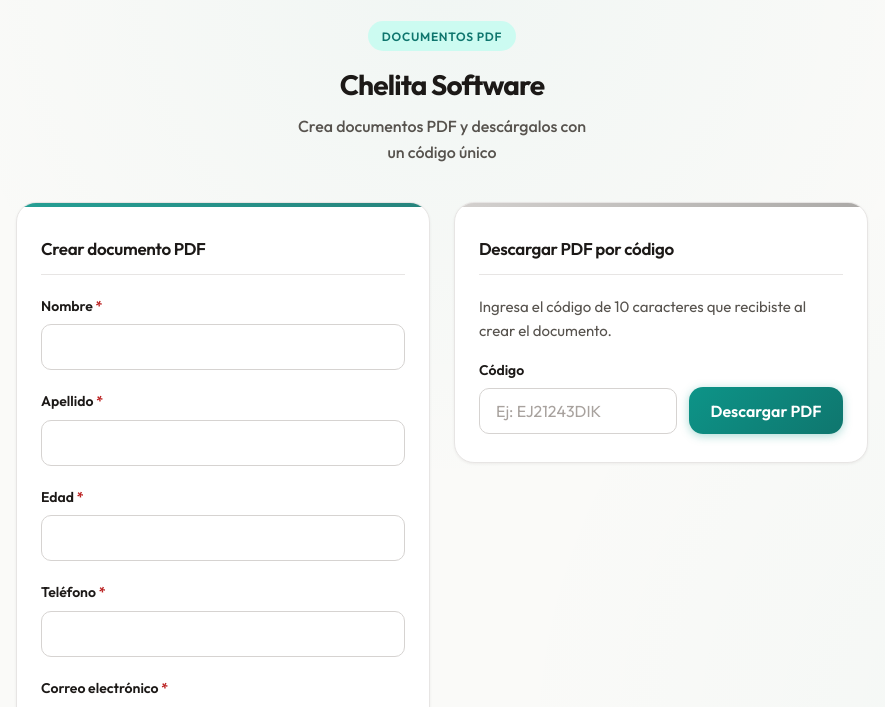
Test case: App › al crear documento exitosamente muestra el código y mensaje de éxito
Type "María" into the field labelled "Nombre *" at (223, 347), box x1=41 y1=324 x2=405 y2=370
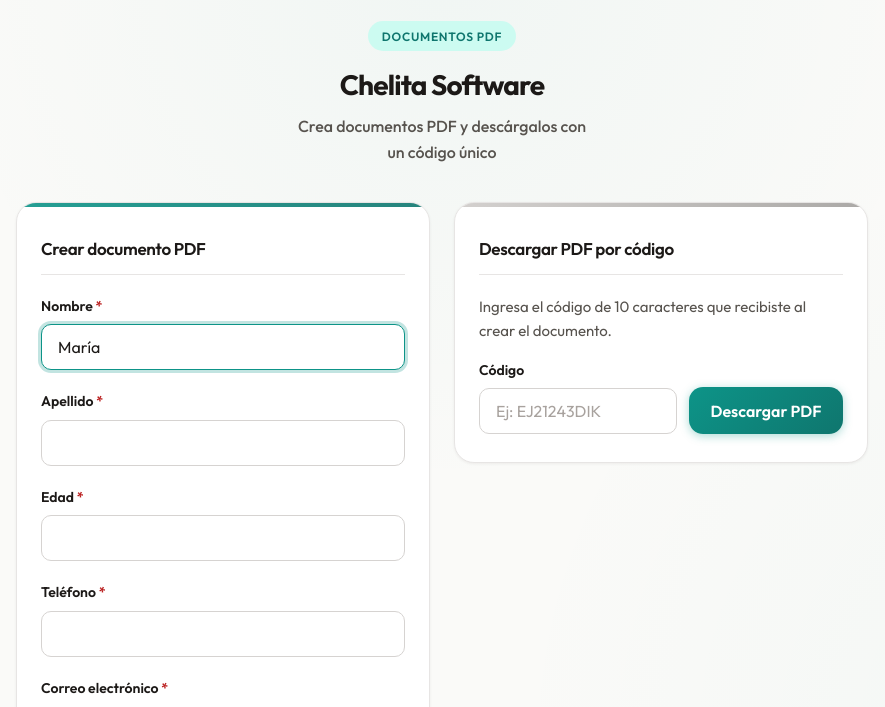
Type "López" into the field labelled "Apellido *" at (223, 443), box x1=41 y1=420 x2=405 y2=466
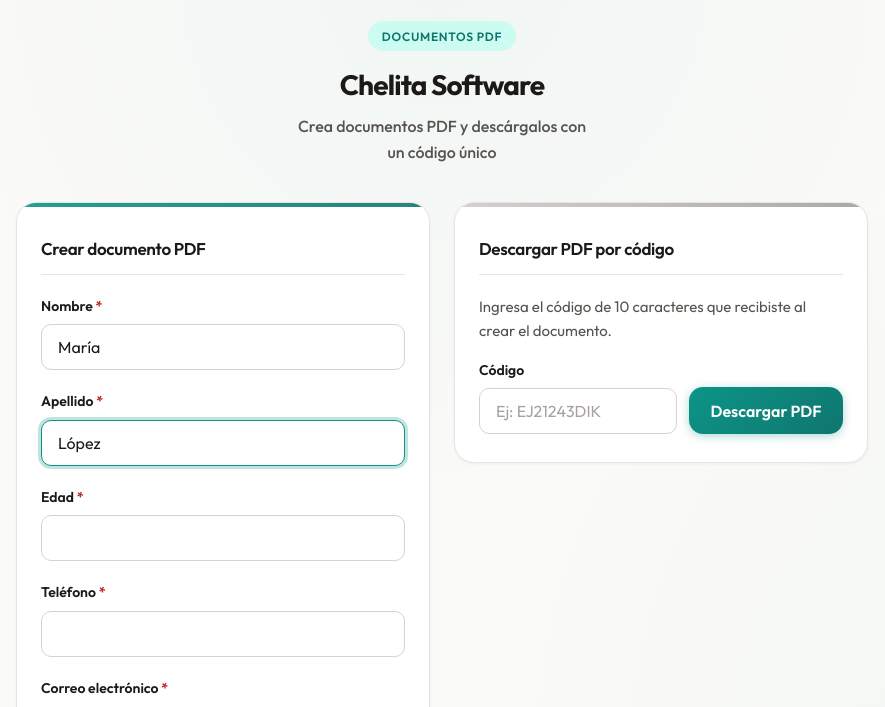
Type "30" into the field labelled "Edad *" at (223, 538), box x1=41 y1=516 x2=405 y2=562
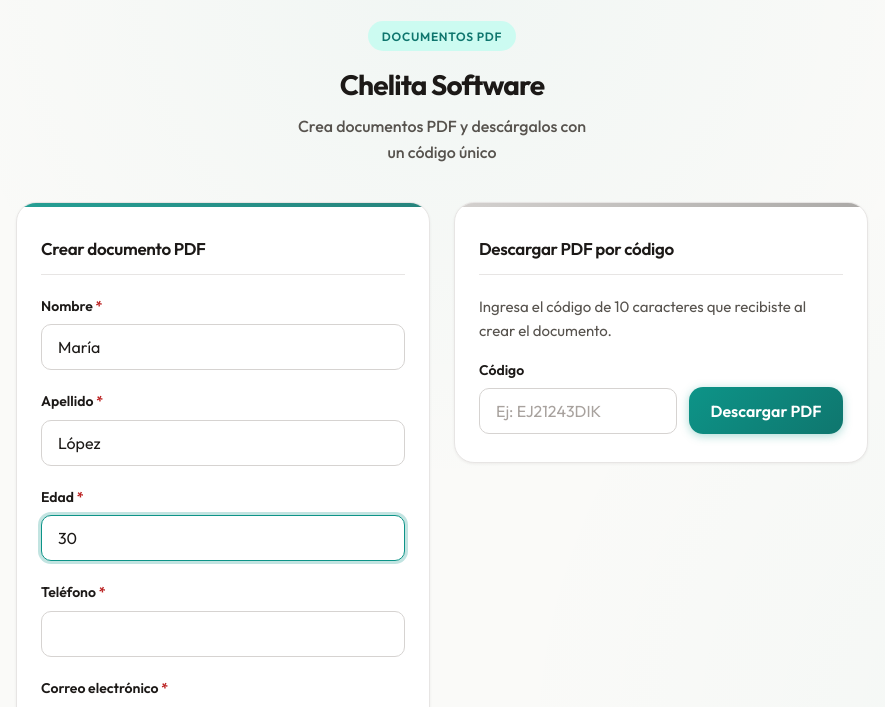
Type "5512345678" into the field labelled "Teléfono *" at (223, 634), box x1=41 y1=611 x2=405 y2=657
(page scrolled)
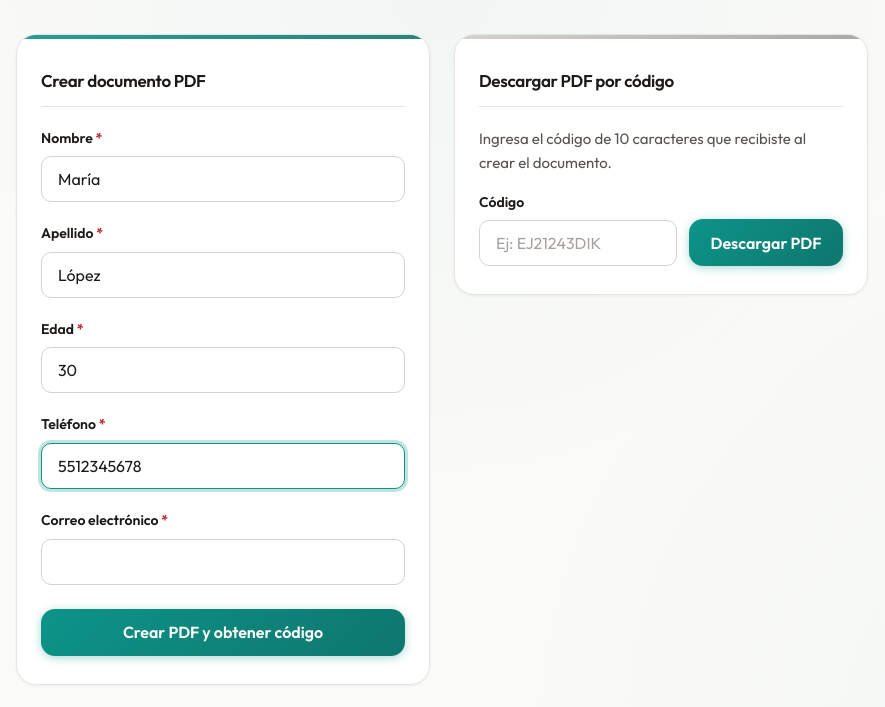
Type "maria@test.com" into the field labelled "Correo electrónico *" at (223, 562), box x1=41 y1=539 x2=405 y2=585
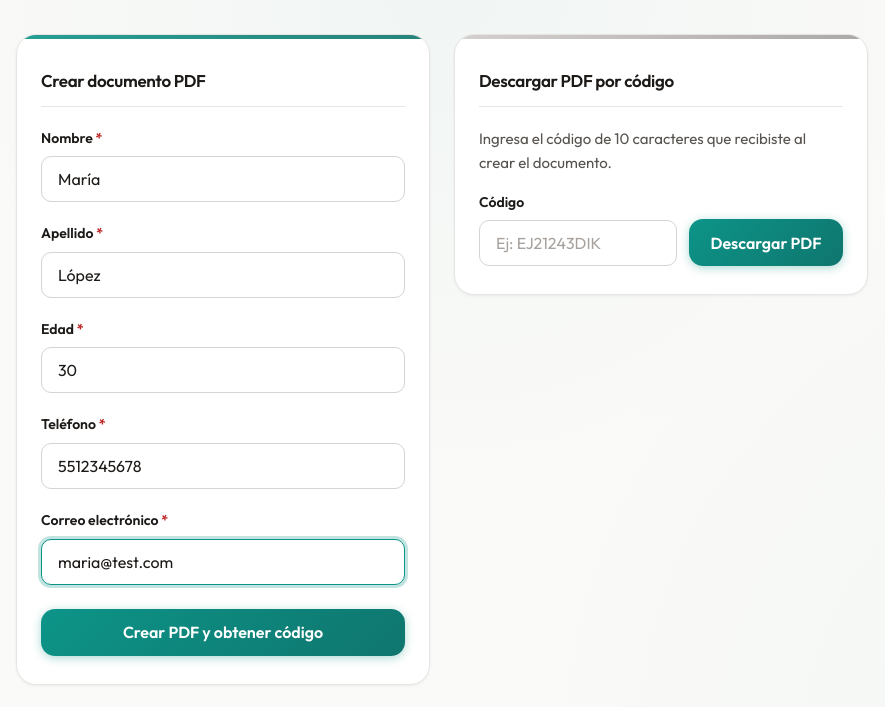
Click the button "Crear PDF y obtener código" at (223, 632), box x1=41 y1=609 x2=405 y2=656
(page scrolled)
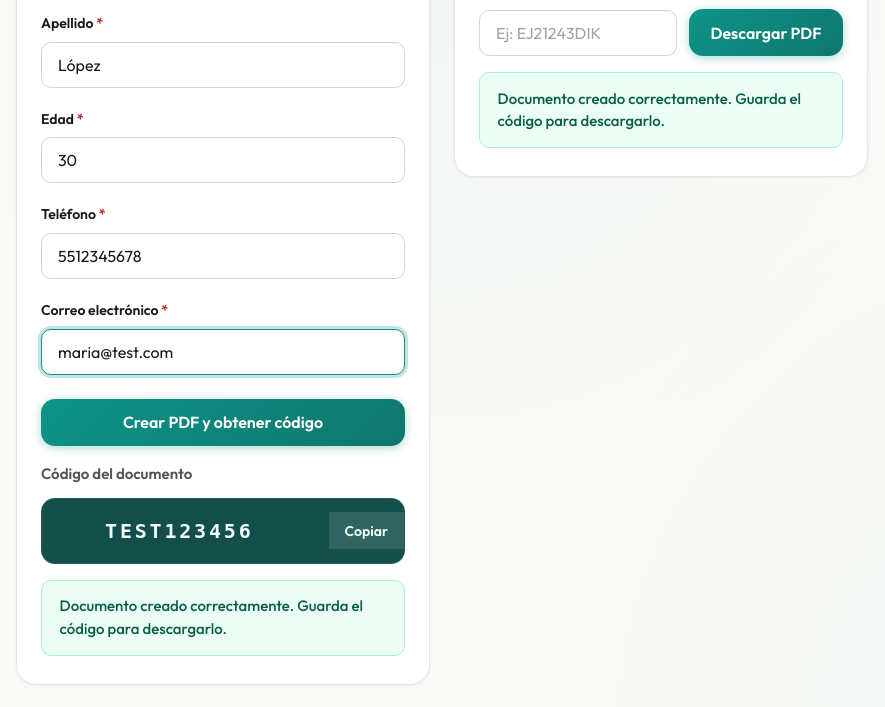
Expected: the text "TEST123456" is shown, x1=105 y1=519 x2=254 y2=543
